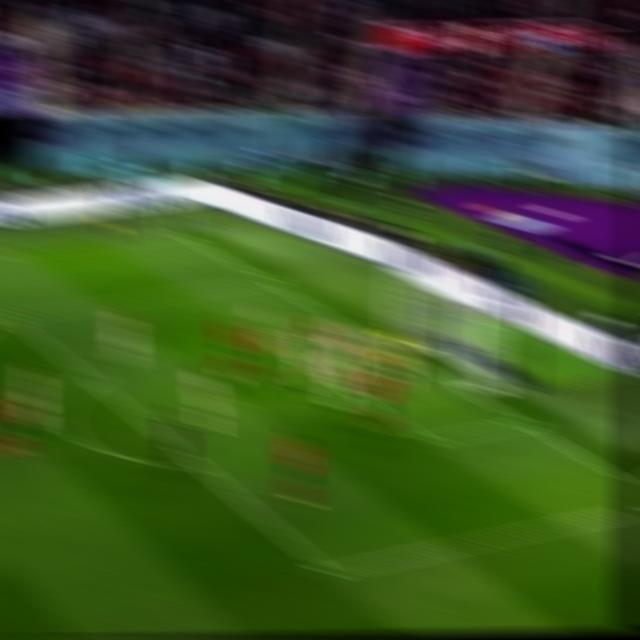bigarea_bottom_inner: (312, 554, 351, 589)
bigarea_top_inner: (0, 304, 28, 330)
bigarea_top_outter: (250, 268, 282, 291)
bottom_arc_area_intersection: (184, 451, 219, 481)
corner: (163, 224, 197, 243)
smallarea_bottom_inner: (413, 425, 446, 455)
smallarea_bottom_outter: (507, 408, 541, 437)
smallarea_top_inner: (252, 327, 281, 350)
top_arc_area_intersection: (74, 365, 106, 390)
